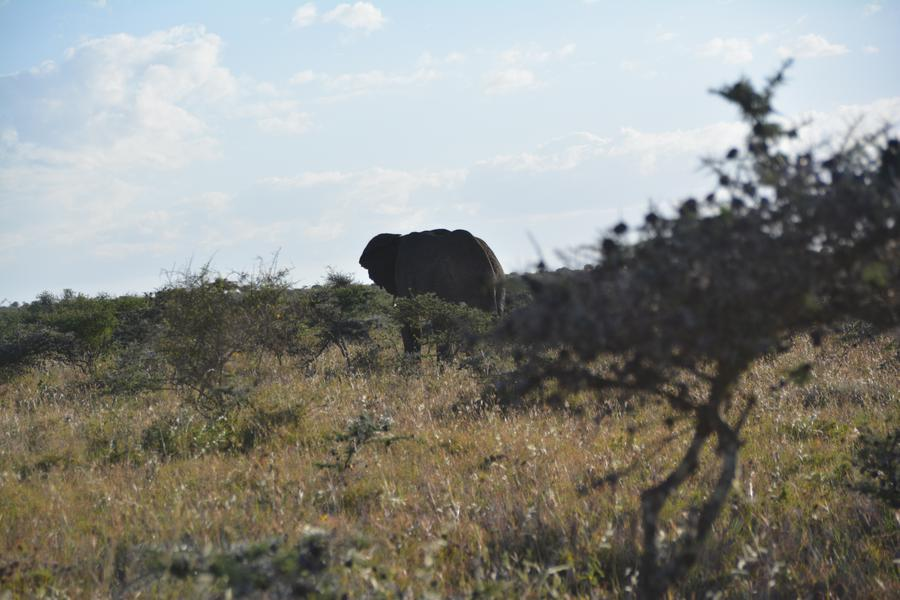elephant: (365, 223, 505, 344)
